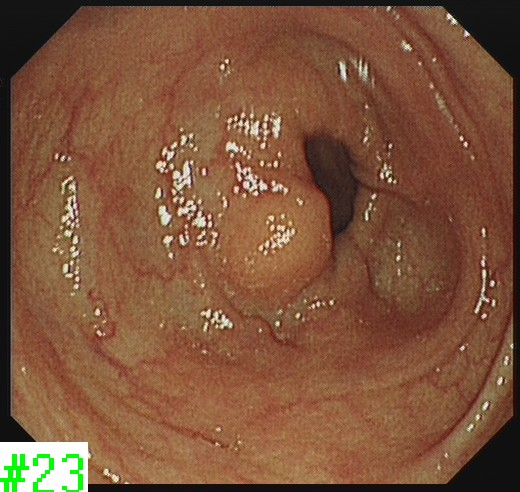adenoma: (208, 181, 334, 302)
